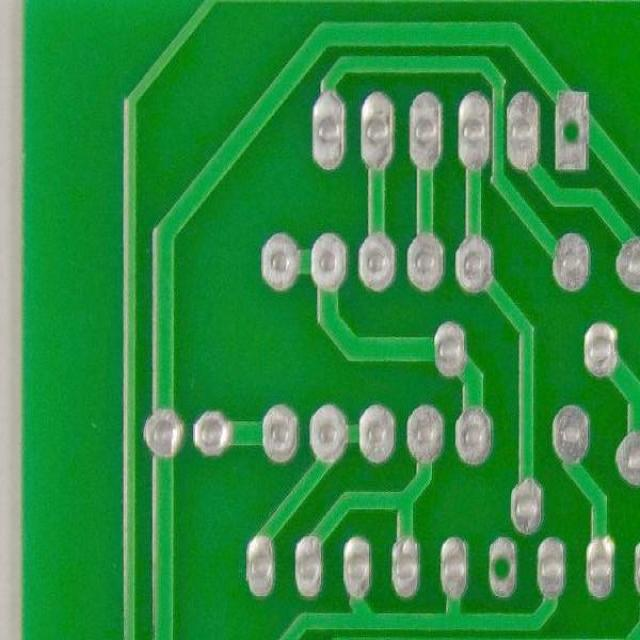missing hole: (554, 84, 591, 175), (481, 531, 526, 604)
